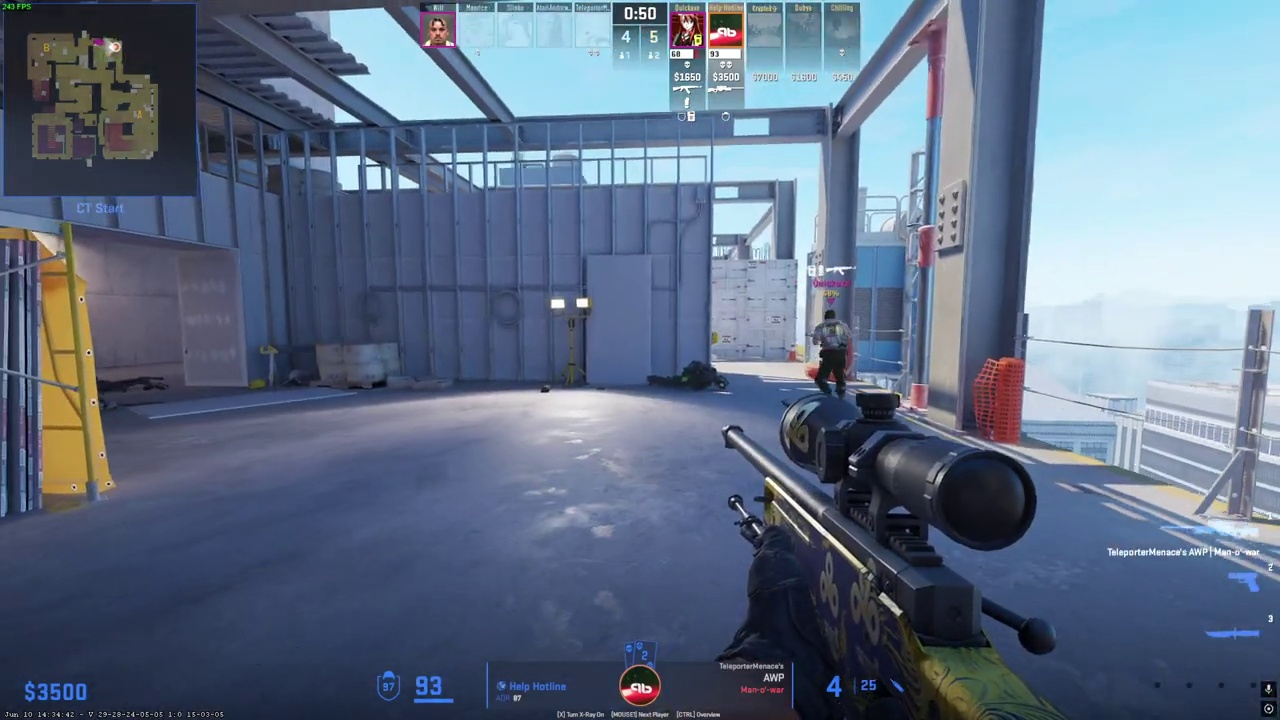Terrorist: (813, 309, 851, 399)
